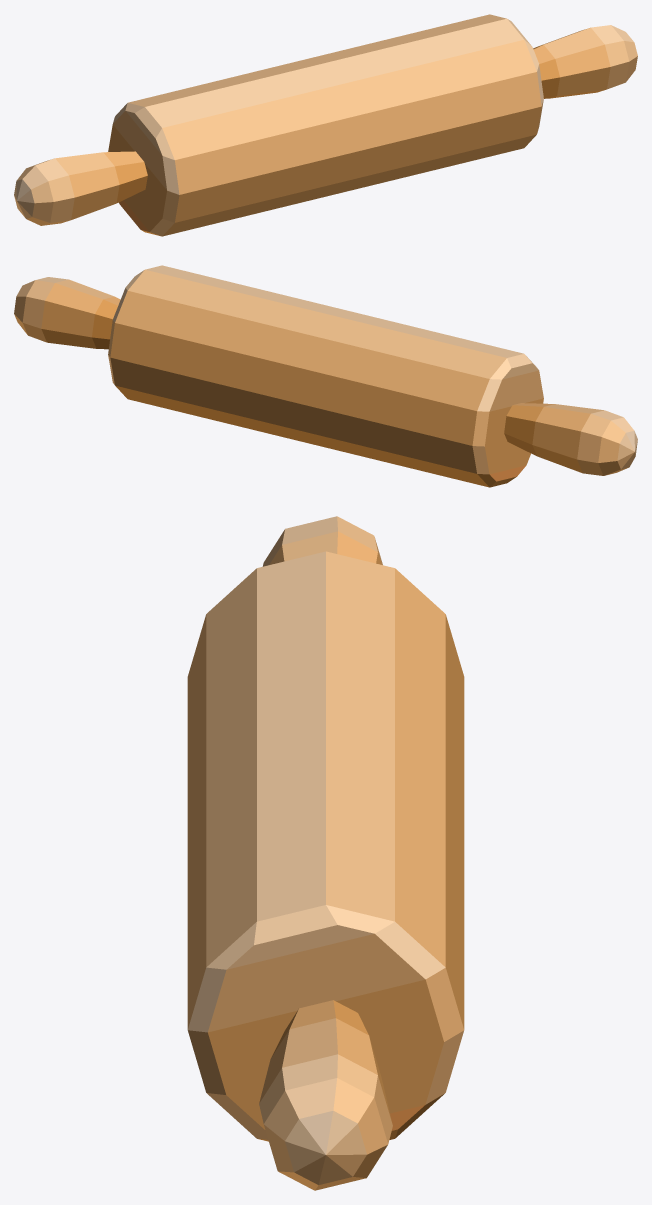
Rendered from BAKE_INT_L1_RollingPin_01.fbx.
3 views of the same model, one above another, from view 1: azimuth 30°, elevation 25°; view 2: azimuth 150°, elevation 25°; view 3: azimuth 270°, elevation 25° (orthographic). The views are drawn at different scales.
Visible parts, largest first — view 1: BAKE_INT_L1_RollingPin_01; view 2: BAKE_INT_L1_RollingPin_01; view 3: BAKE_INT_L1_RollingPin_01.
Part boxes in pixels (bbox=[...]): BAKE_INT_L1_RollingPin_01: bbox=[14, 14, 637, 236]; BAKE_INT_L1_RollingPin_01: bbox=[14, 265, 637, 487]; BAKE_INT_L1_RollingPin_01: bbox=[187, 516, 464, 1190].
Bounding box in the file's own units: 0.693 × 0.1343 × 0.1343.
